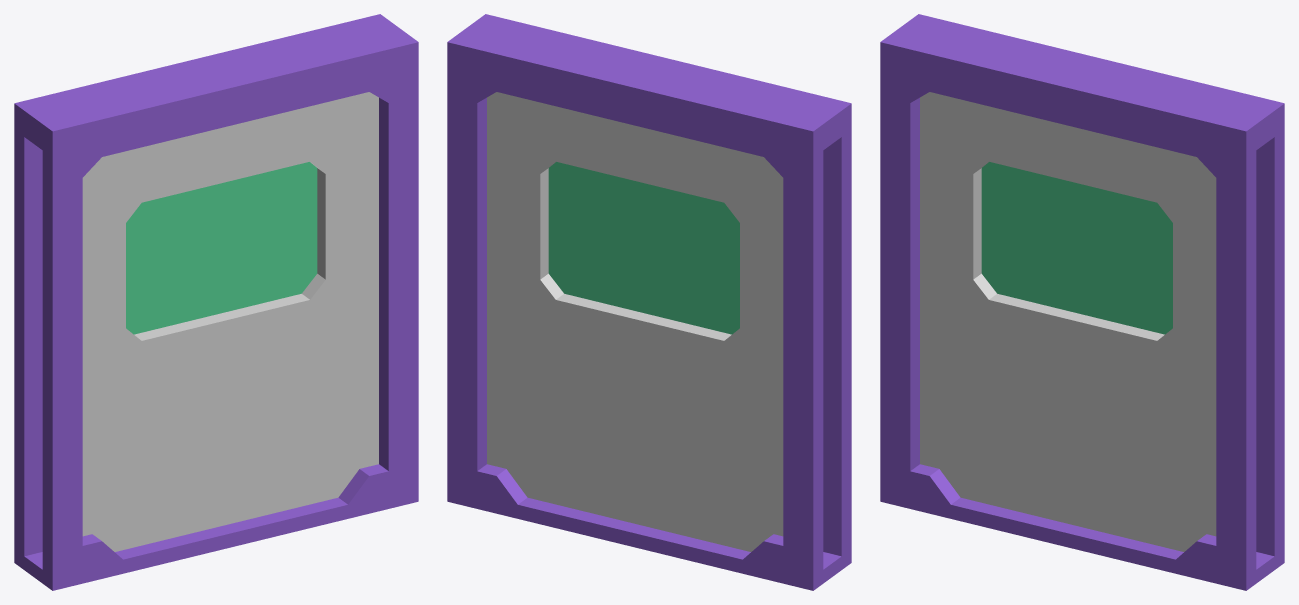
File: sliding_door_02.glb
The picture shows the model from 3 angles, left to right: view 1: azimuth 30°, elevation 25°; view 2: azimuth 150°, elevation 25°; view 3: azimuth 330°, elevation 25°; orthographic projection.
Parts seen in each view (by area): view 1: Door, Frame, Glass; view 2: Door, Frame, Glass; view 3: Door, Frame, Glass.
Boxes of the visible parts, box(x1,y1,x2,y2) form: Door: box(82, 92, 378, 551); Frame: box(14, 14, 418, 590); Glass: box(126, 162, 317, 334); Door: box(487, 92, 783, 551); Frame: box(447, 14, 851, 590); Glass: box(548, 162, 739, 334); Door: box(920, 92, 1216, 551); Frame: box(880, 14, 1284, 590); Glass: box(981, 162, 1172, 334).
Bounding box in the file's own units: 2.5 × 3 × 0.4543.
